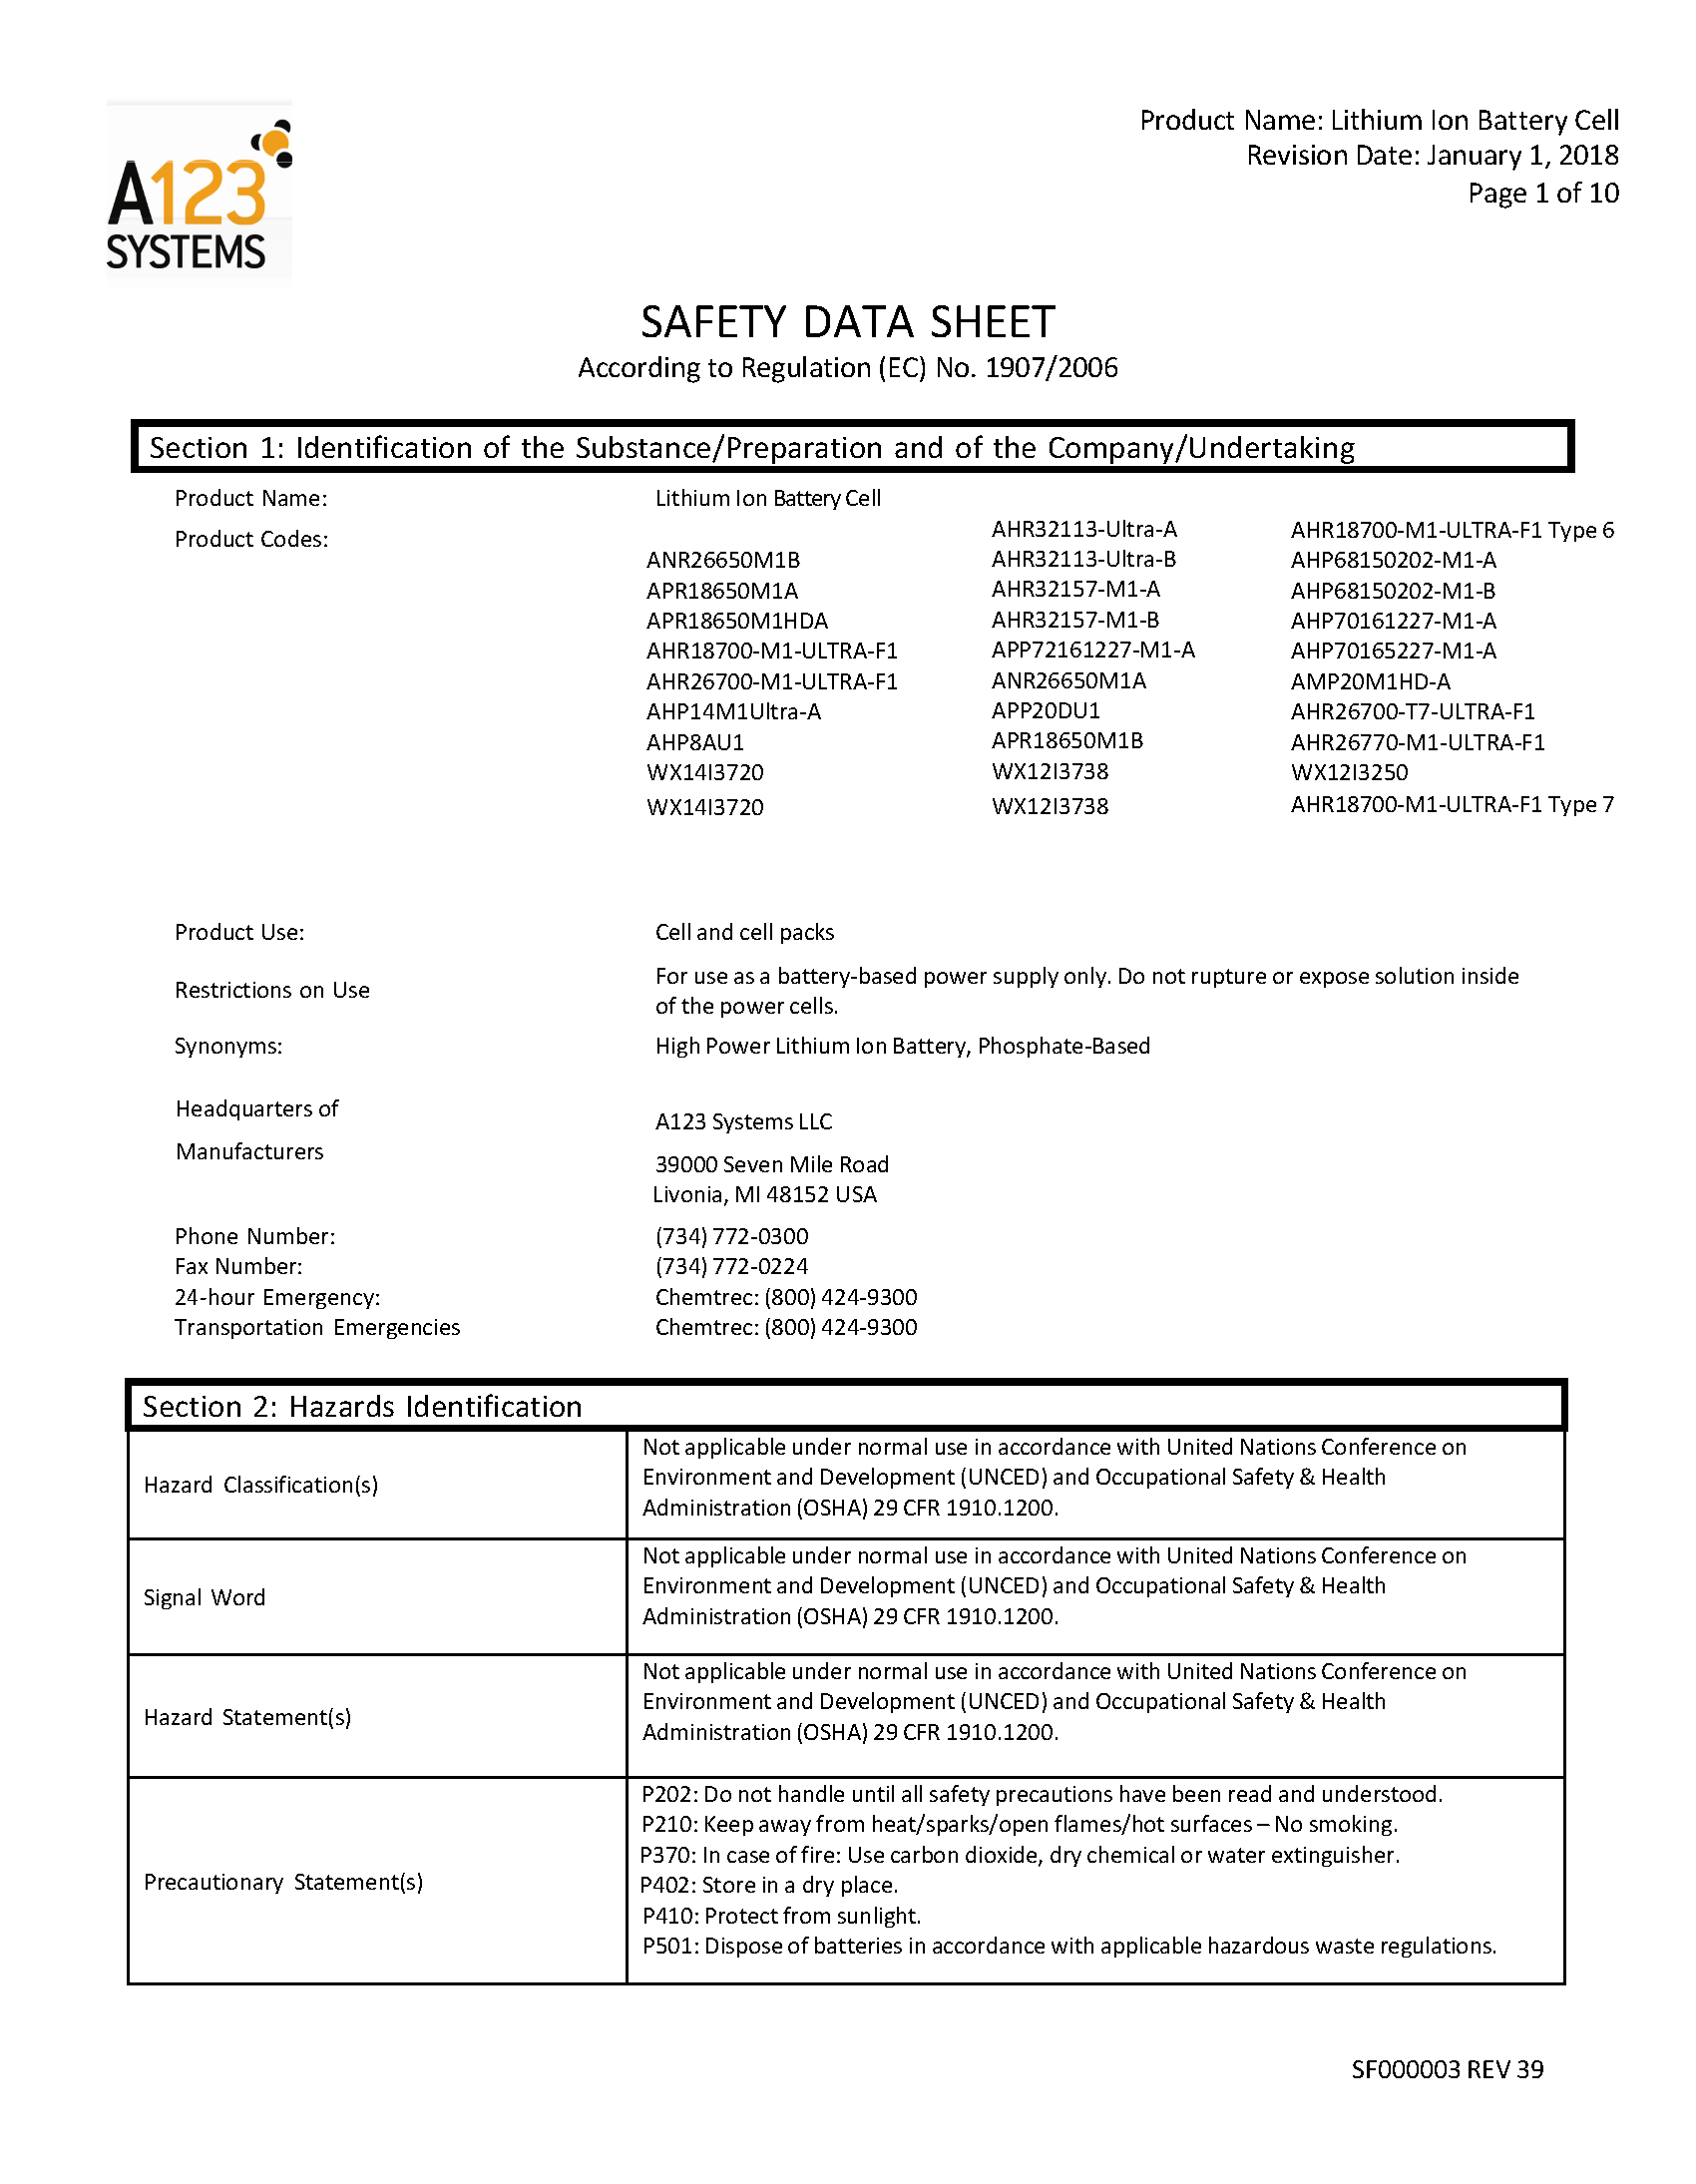table: (129, 1431, 1565, 1984), (167, 913, 1526, 1347), (167, 480, 1622, 831)
